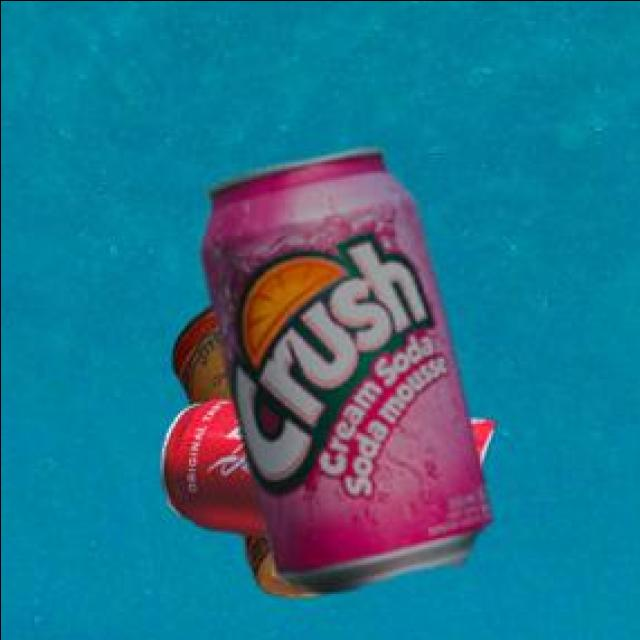logam: (205, 151, 493, 596), (164, 402, 496, 570), (176, 308, 326, 601)
